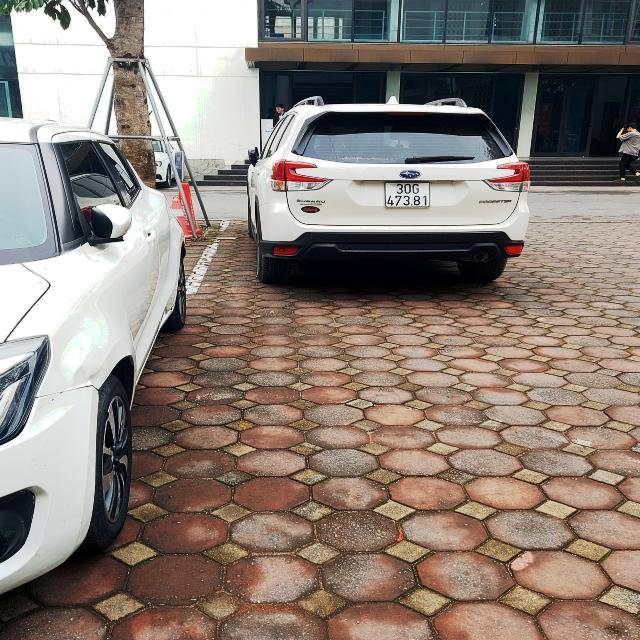license_plate: (385, 183, 431, 208)
